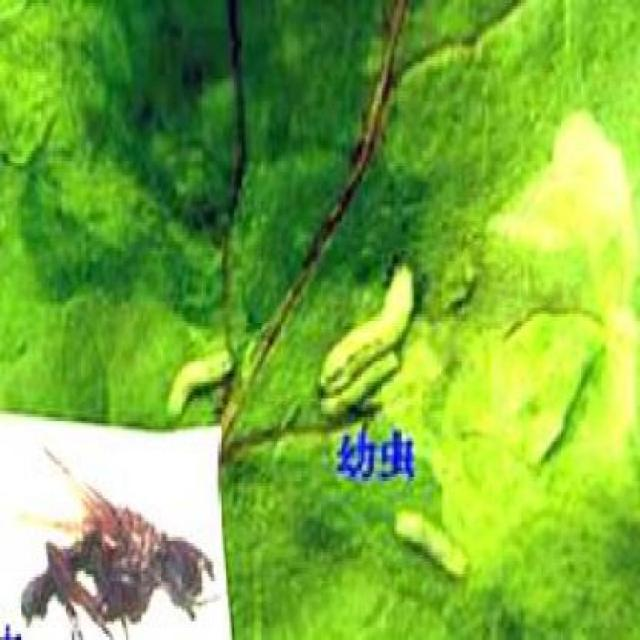whorl-maggot: (314, 255, 420, 417), (391, 503, 472, 582), (162, 331, 236, 417)
